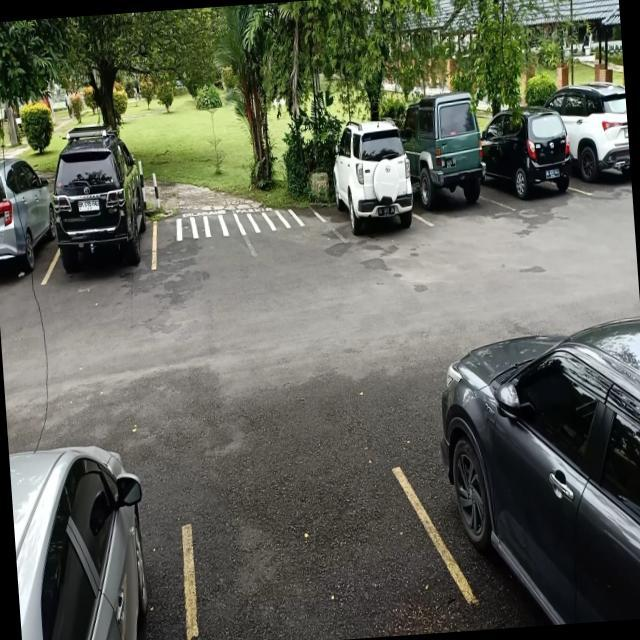occupied: (36, 160, 160, 294), (326, 144, 422, 244), (407, 122, 490, 228), (484, 119, 575, 212)
